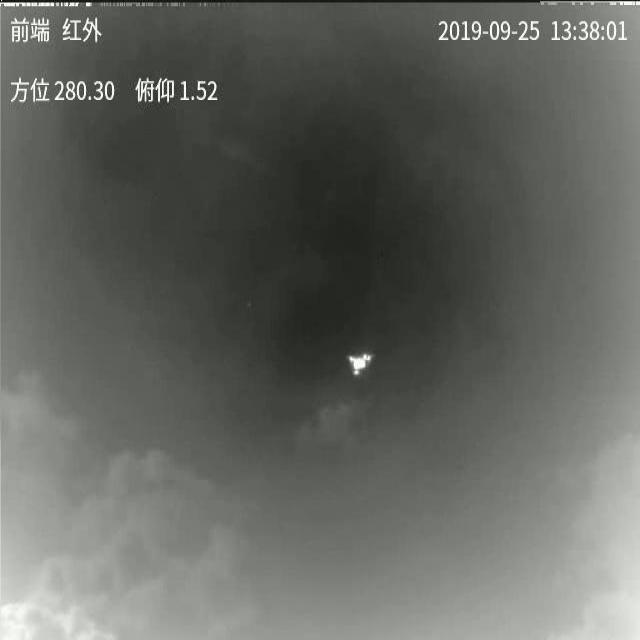drone: (347, 354, 376, 378)
